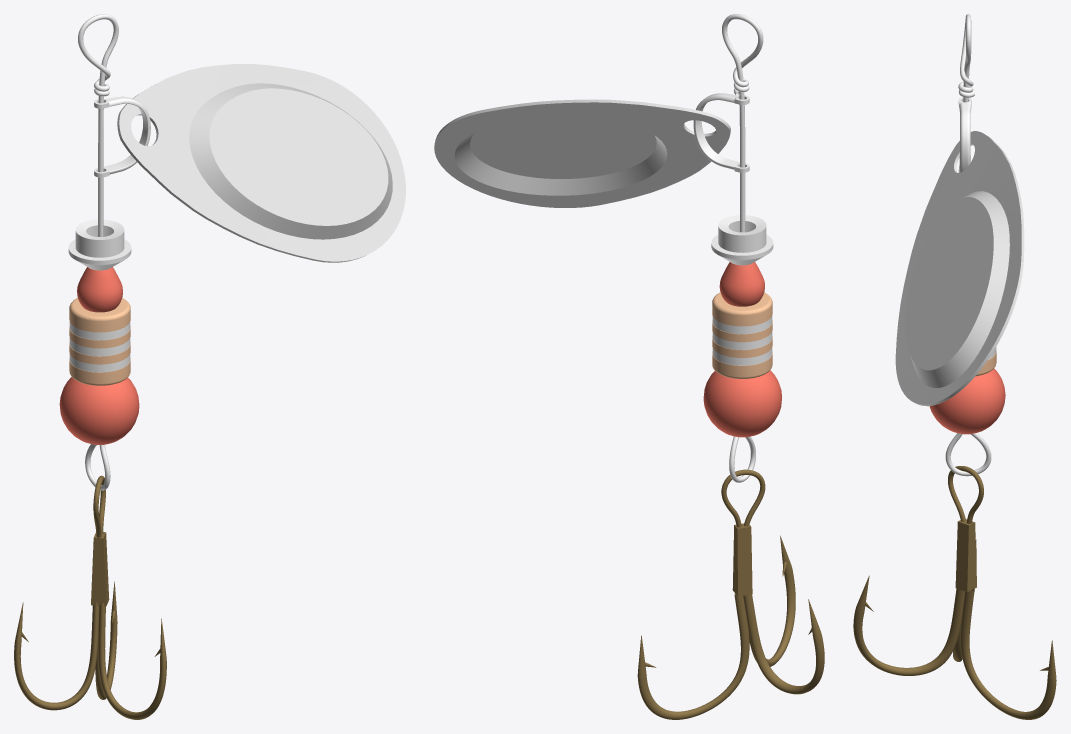
The model's file is moi_thia.glb.
The picture shows the model from 3 angles, left to right: view 1: azimuth 30°, elevation 25°; view 2: azimuth 150°, elevation 25°; view 3: azimuth 270°, elevation 25°; orthographic projection. The views are drawn at different scales.
Parts seen in each view (by area): view 1: Cube.004, Cylinder.001, NurbsPath.004, Sphere.001, NurbsPath, Cylinder, Sphere, Cube.003, Cube.002; view 2: Cube.004, NurbsPath.004, Cylinder.001, Sphere.001, NurbsPath, Cylinder, Sphere, Cube.003, Cube.002, NurbsPath.001; view 3: Cube.004, NurbsPath.004, Sphere.001, NurbsPath, Cube.003, Cube.002, NurbsPath.001.
Part boxes in pixels (x1,y1,x2,y2): Cube.004: [117, 64, 405, 262]; Cylinder.001: [69, 298, 130, 385]; NurbsPath.004: [14, 581, 166, 719]; Sphere.001: [59, 377, 139, 444]; NurbsPath: [78, 14, 118, 490]; Cylinder: [68, 219, 131, 270]; Sphere: [77, 267, 122, 312]; Cube.003: [91, 532, 109, 606]; Cube.002: [94, 96, 150, 177]; Cube.004: [434, 99, 730, 207]; NurbsPath.004: [637, 535, 824, 719]; Cylinder.001: [712, 292, 772, 378]; Sphere.001: [703, 370, 781, 437]; NurbsPath: [722, 14, 763, 482]; Cylinder: [711, 215, 773, 265]; Sphere: [719, 262, 764, 306]; Cube.003: [732, 523, 752, 596]; Cube.002: [693, 93, 749, 172]; NurbsPath.001: [721, 469, 765, 527]; Cube.004: [895, 131, 1024, 406]; NurbsPath.004: [853, 539, 1056, 719]; Sphere.001: [929, 368, 1005, 434]; NurbsPath: [945, 14, 991, 476]; Cube.003: [955, 519, 976, 592]; Cube.002: [958, 97, 971, 172]; NurbsPath.001: [948, 466, 983, 523].
Bounding box in the file's own units: 2.49 × 4.31 × 1.16.
